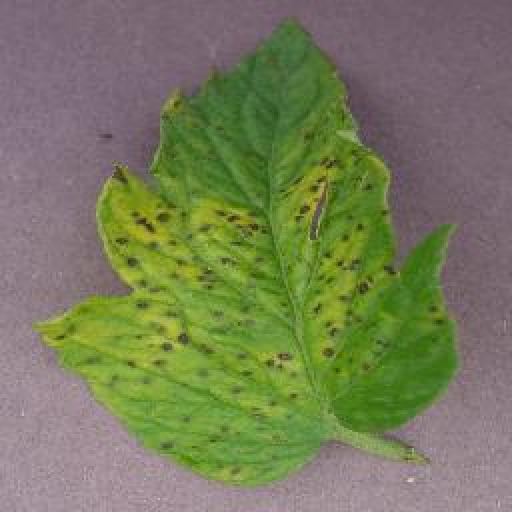Septoria: (39, 21, 463, 487)
